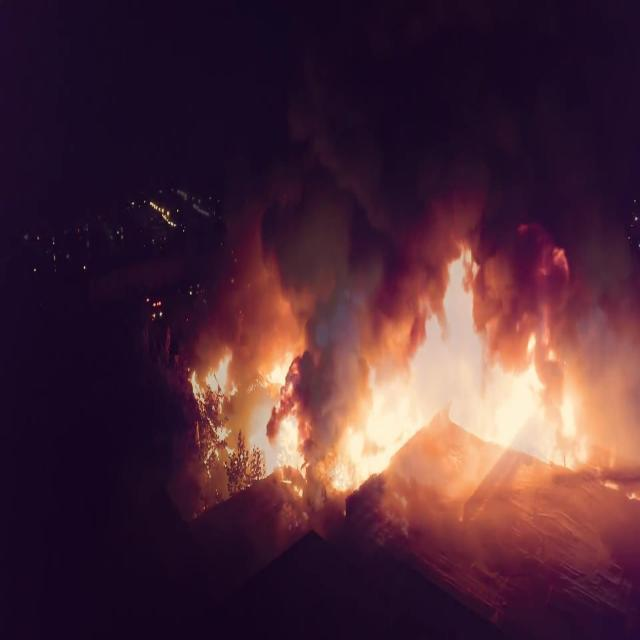Fire: (190, 252, 594, 514)
Smoke: (192, 110, 640, 474)
